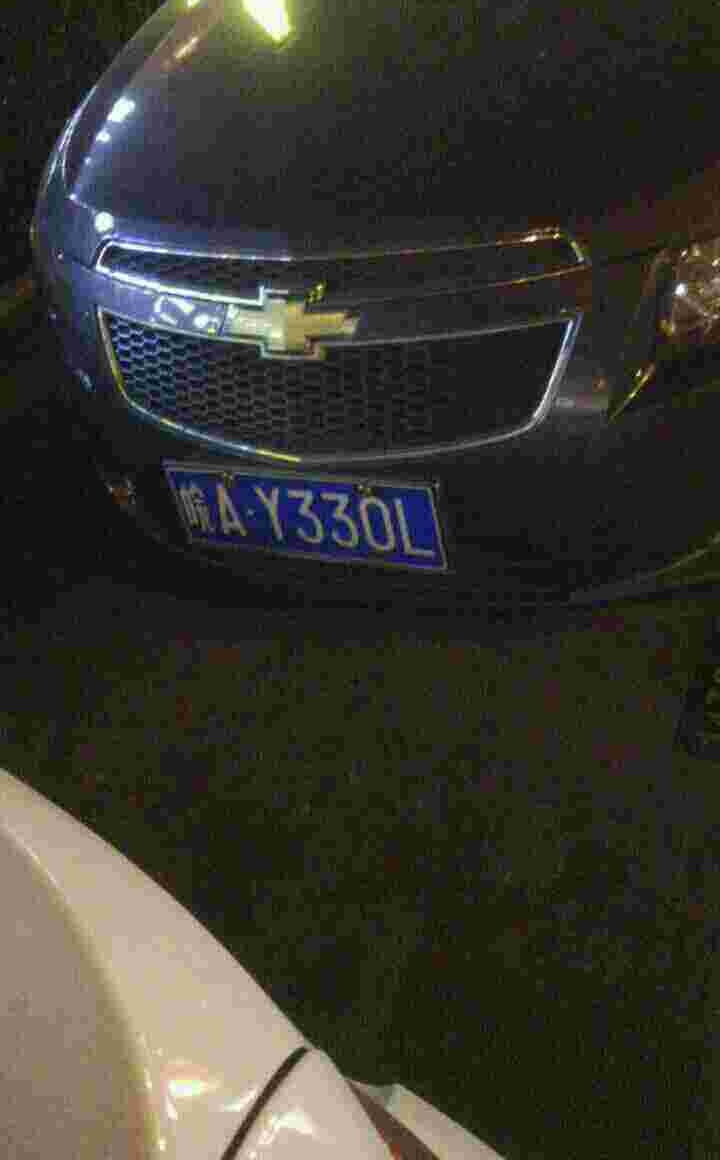car: (167, 466, 429, 565)
